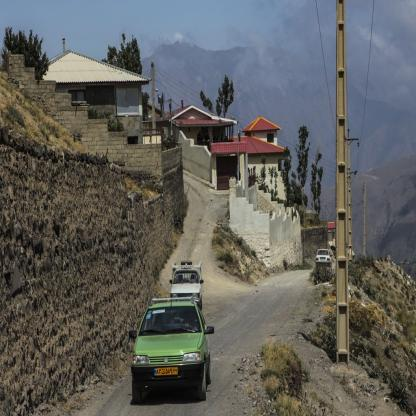Car: (130, 270, 216, 402), (317, 249, 334, 270), (332, 246, 337, 260)
